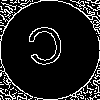C: (25, 25, 67, 76)
